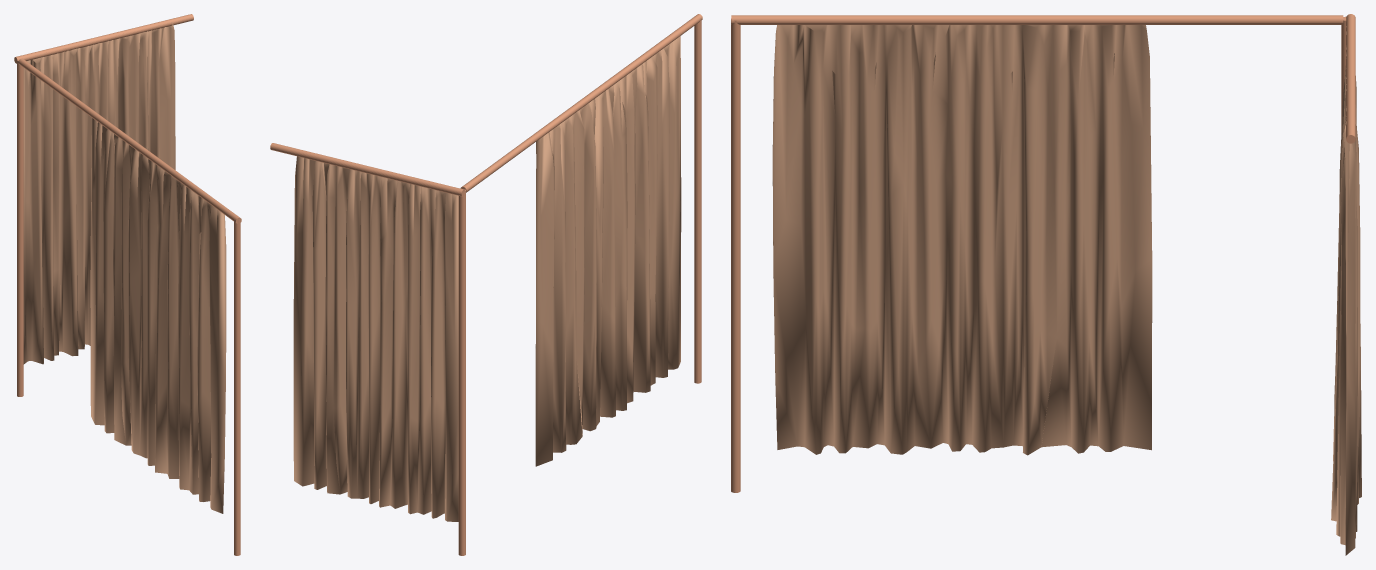
Rendered from Trial room_curtains & rod.fbx.
3 views of the same model, side by side, from view 1: azimuth 30°, elevation 25°; view 2: azimuth 150°, elevation 25°; view 3: azimuth 270°, elevation 25° (orthographic). The views are drawn at different scales.
Parts seen in each view (by area): view 1: Tulle.001, Cylinder.003; view 2: Tulle.001, Cylinder.003; view 3: Tulle.001, Cylinder.003.
Part boxes in pixels (x1,y1,x2,y2): Tulle.001: [23, 22, 226, 513]; Cylinder.003: [14, 14, 241, 555]; Tulle.001: [293, 36, 681, 521]; Cylinder.003: [270, 14, 702, 555]; Tulle.001: [772, 24, 1361, 555]; Cylinder.003: [731, 14, 1355, 492].
Bounding box in the file's own units: 259 × 458 × 552.
